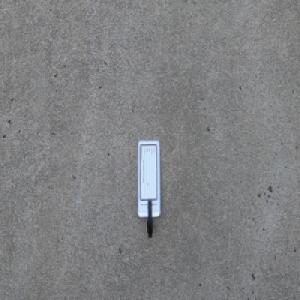LuggageTag: (136, 138, 161, 239)
